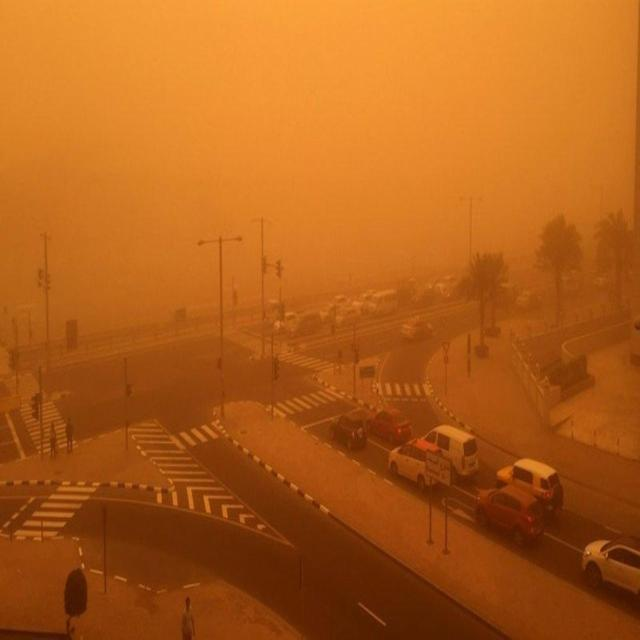Car: (474, 484, 546, 551), (581, 536, 640, 606), (496, 456, 563, 517), (389, 436, 455, 491), (366, 407, 410, 445), (329, 412, 368, 451), (367, 288, 399, 318), (402, 316, 434, 341), (294, 312, 324, 336), (274, 312, 300, 336), (334, 304, 360, 328), (397, 276, 418, 305), (516, 288, 541, 312), (498, 280, 520, 307), (434, 278, 455, 300), (416, 285, 436, 307), (319, 304, 339, 325), (266, 297, 285, 318), (362, 296, 379, 314), (349, 299, 366, 317), (330, 294, 349, 310), (361, 288, 377, 302), (425, 280, 439, 296), (441, 274, 457, 285)
